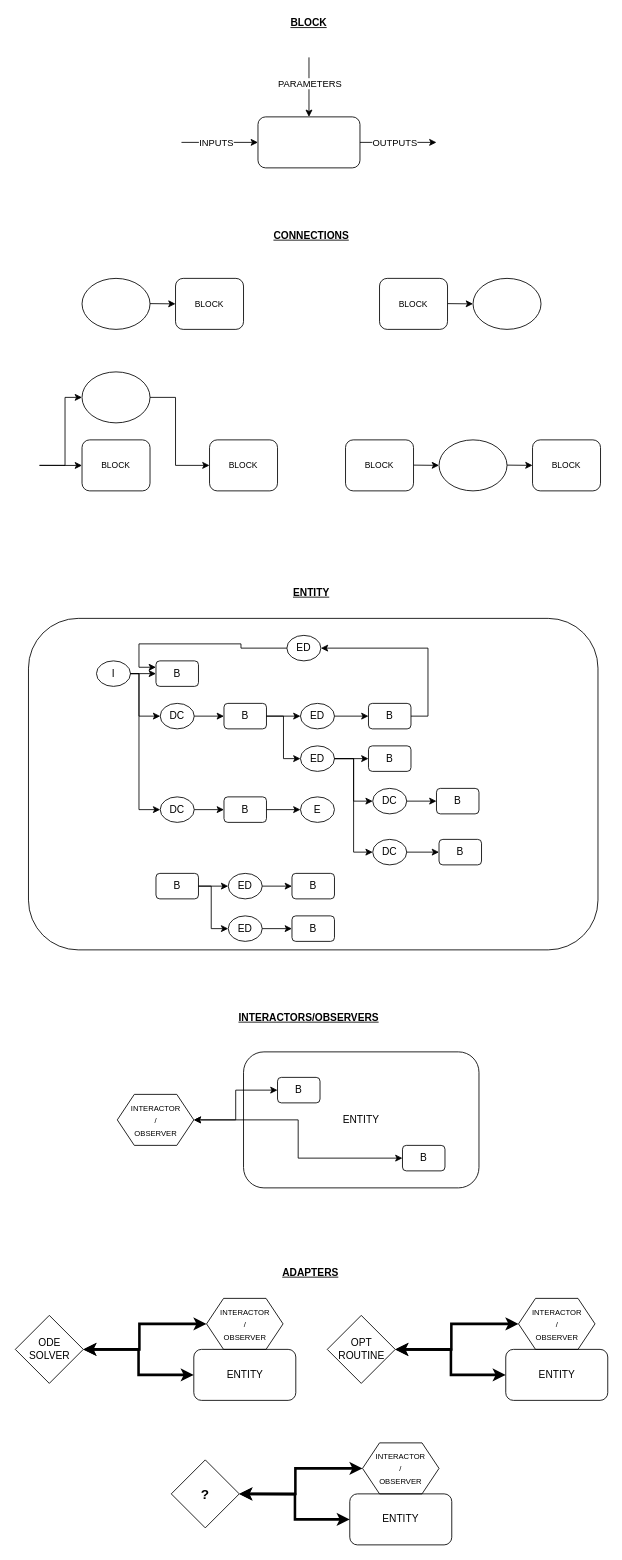
Some shapes in this 622 by 1560 pixel diagram are drawn without their labels. Here are the shapes that lost their labels. From the top down, the centre of each, then its label:
At pixel 115 303: "INJECTOR".
At pixel 506 303: "EJECTOR".
At pixel 115 397: "DAISY CHAIN".
At pixel 472 465: "EDGE".
